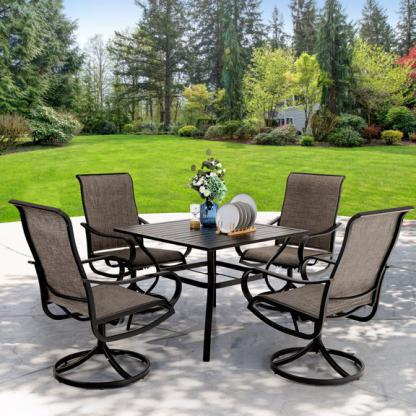table: (104, 216, 315, 364)
